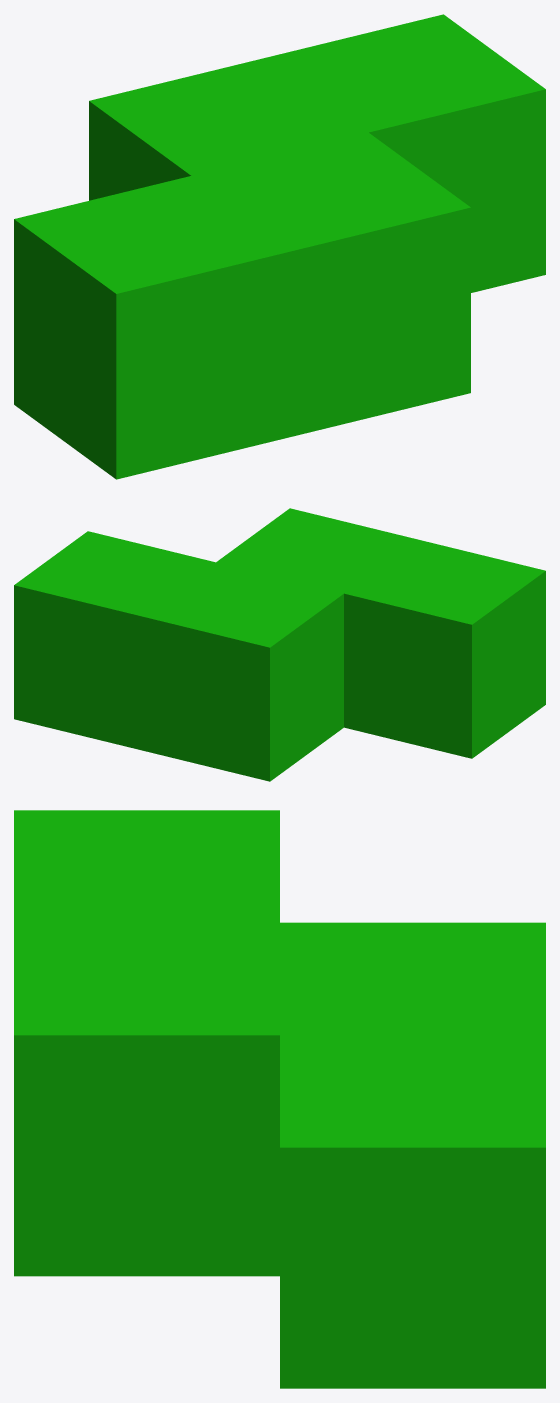
File: rhodez.glb
3 renders of one model, top to bottom at view 1: azimuth 30°, elevation 25°; view 2: azimuth 150°, elevation 25°; view 3: azimuth 270°, elevation 25°, orthographic. The views are drawn at different scales.
Parts seen in each view (by area): view 1: Cube; view 2: Cube; view 3: Cube.
Part boxes in pixels (x1=…): Cube: x1=14, y1=14, x2=545, y2=479; Cube: x1=14, y1=508, x2=545, y2=781; Cube: x1=14, y1=810, x2=545, y2=1388.
Size of the model in its own units: 3 by 1 by 2.
